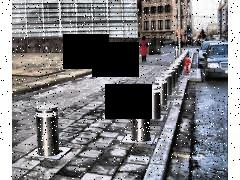bench: (32, 101, 59, 157), (129, 93, 151, 142)
